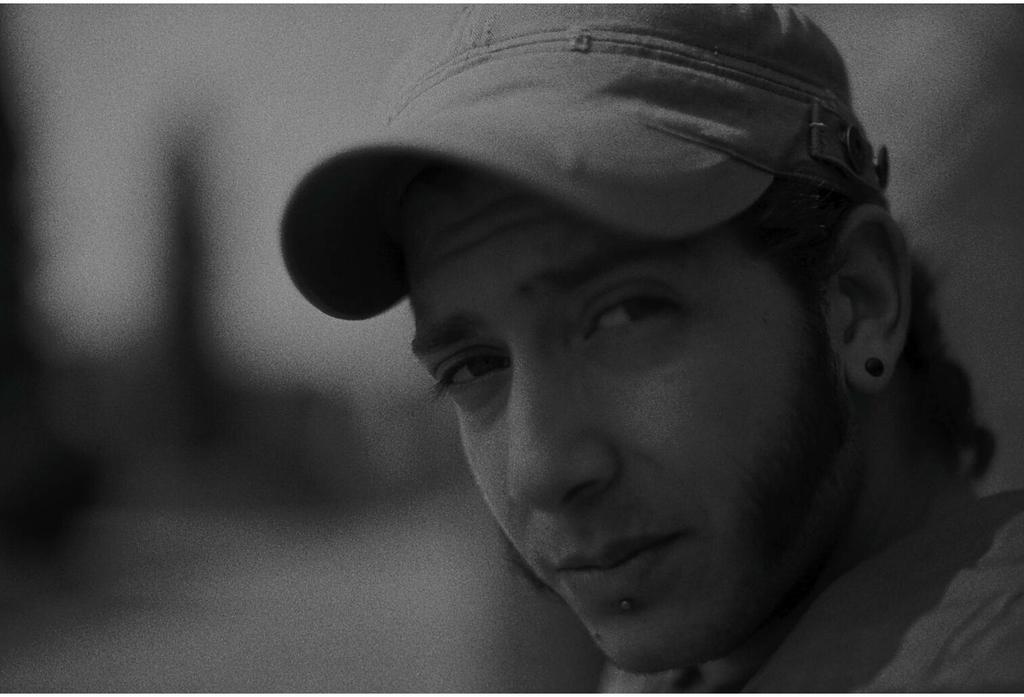Hat: (278, 0, 889, 322)
